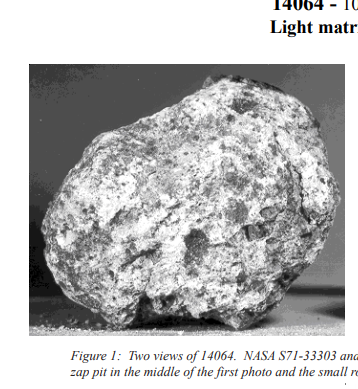Breccia: (32, 63, 339, 331), (81, 169, 291, 277), (199, 97, 304, 258), (115, 146, 249, 269)
